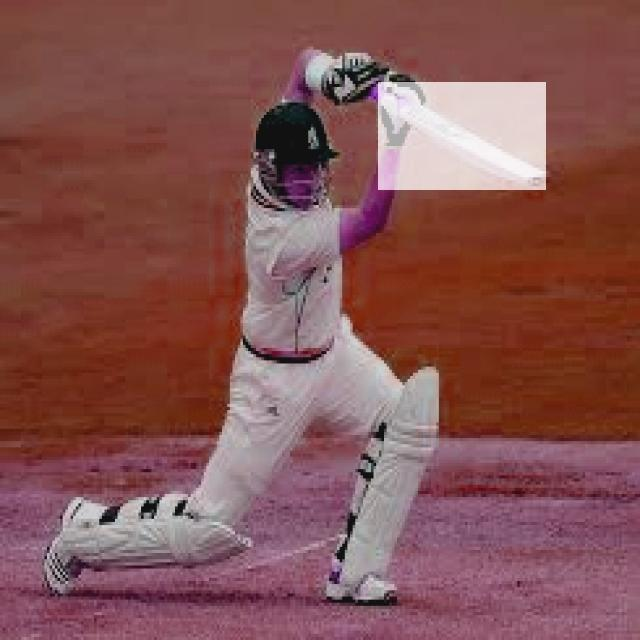bat: (378, 83, 548, 190)
toe: (520, 169, 548, 188)
